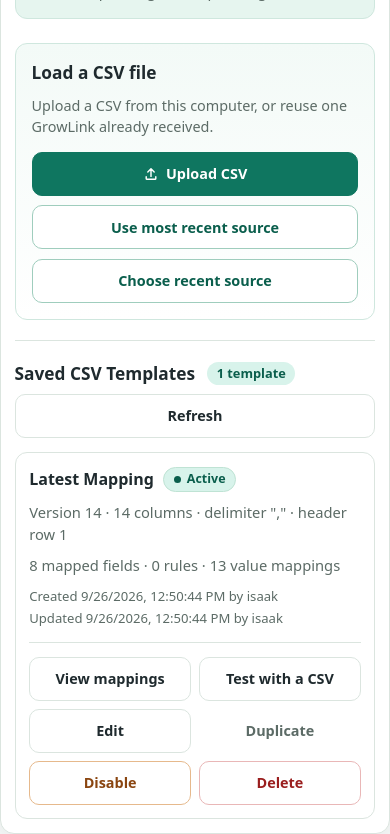
Scenario: CSV Templates page — Saved CSV Templates › a busy destructive action stays destructive and disabled — distinct from a merely disabled one
(page scrolled)
Expected: the heading "Latest Mapping" is shown, left=29, top=468, right=154, bottom=491
Click the button "Disable" at {"x": 110, "y": 782}, box left=29, top=760, right=191, bottom=804
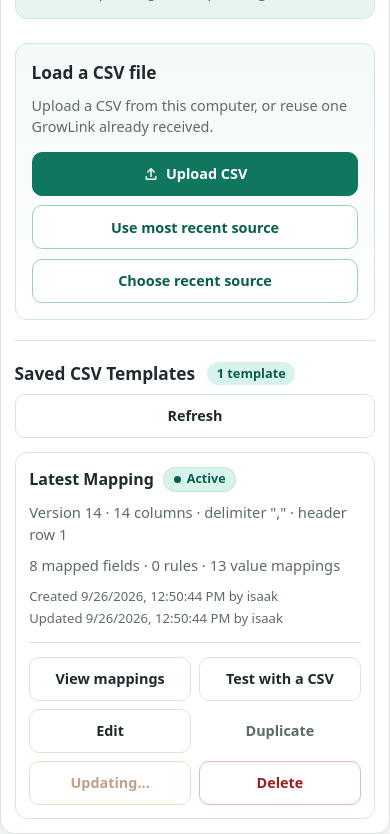
Expected: the button "Delete" is enabled, left=199, top=760, right=361, bottom=804
Expected: the button "Updating..." is disabled, left=29, top=760, right=191, bottom=804
